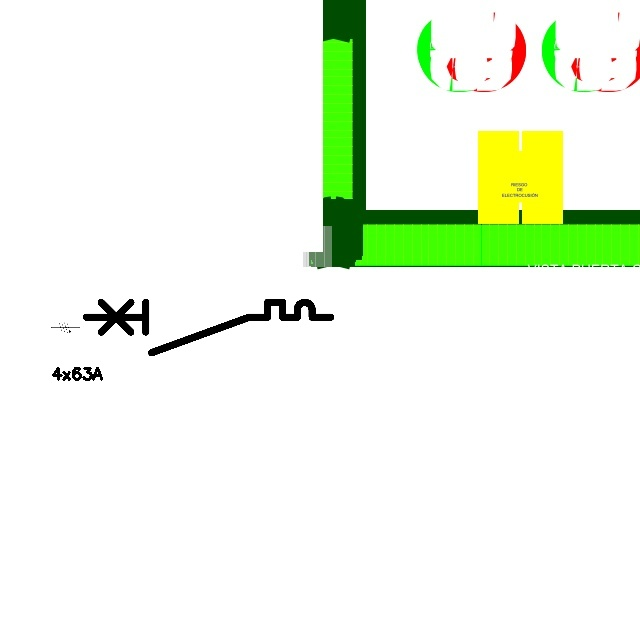interruptor_termomagnetico: (80, 296, 337, 359)
